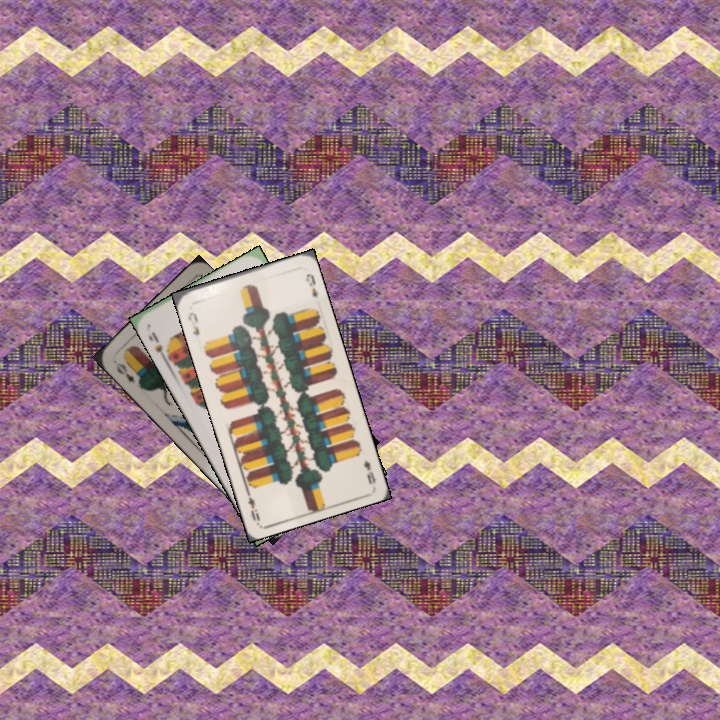E9: (359, 457, 378, 487), (184, 308, 202, 338)
EO: (112, 359, 138, 386)
S9: (144, 328, 174, 362)
